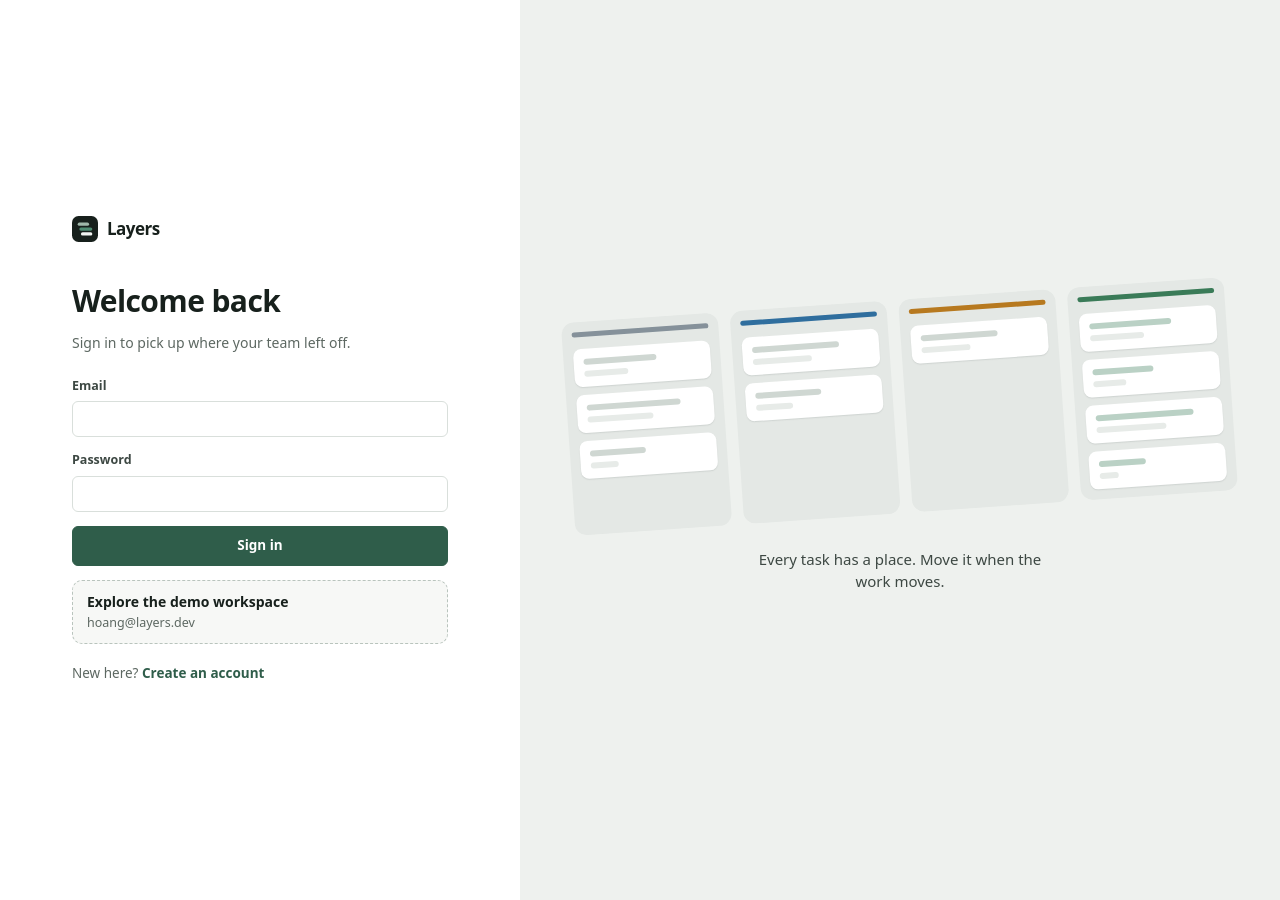
Test: AuthPage › shows the server message on bad credentials
Step 1. Type "hoang@layers.dev" into the field labelled "Email" → (260, 419), box [72,401,448,437]
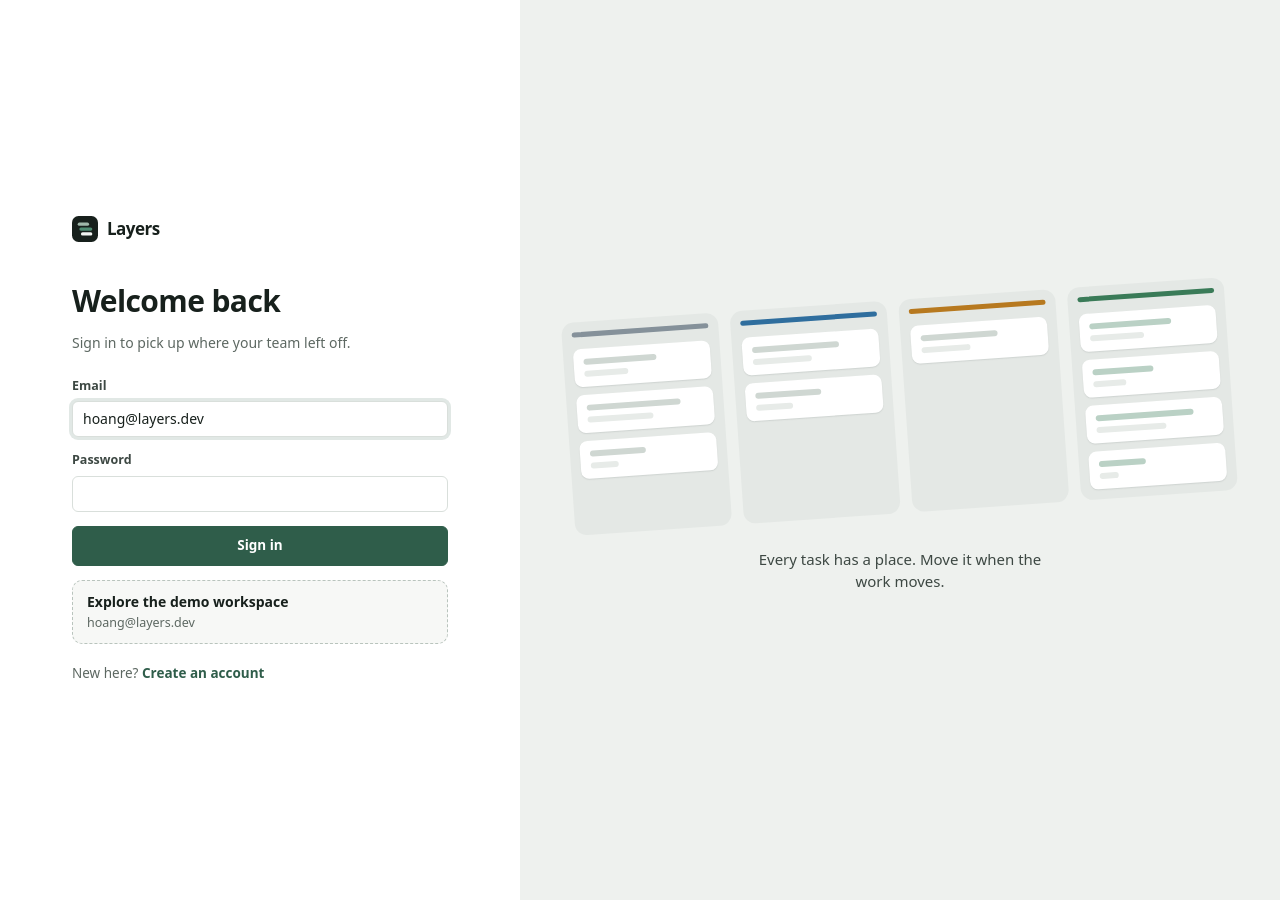
Step 2. Type "nope" into the password field labelled "Password" → (260, 494), box [72,476,448,512]
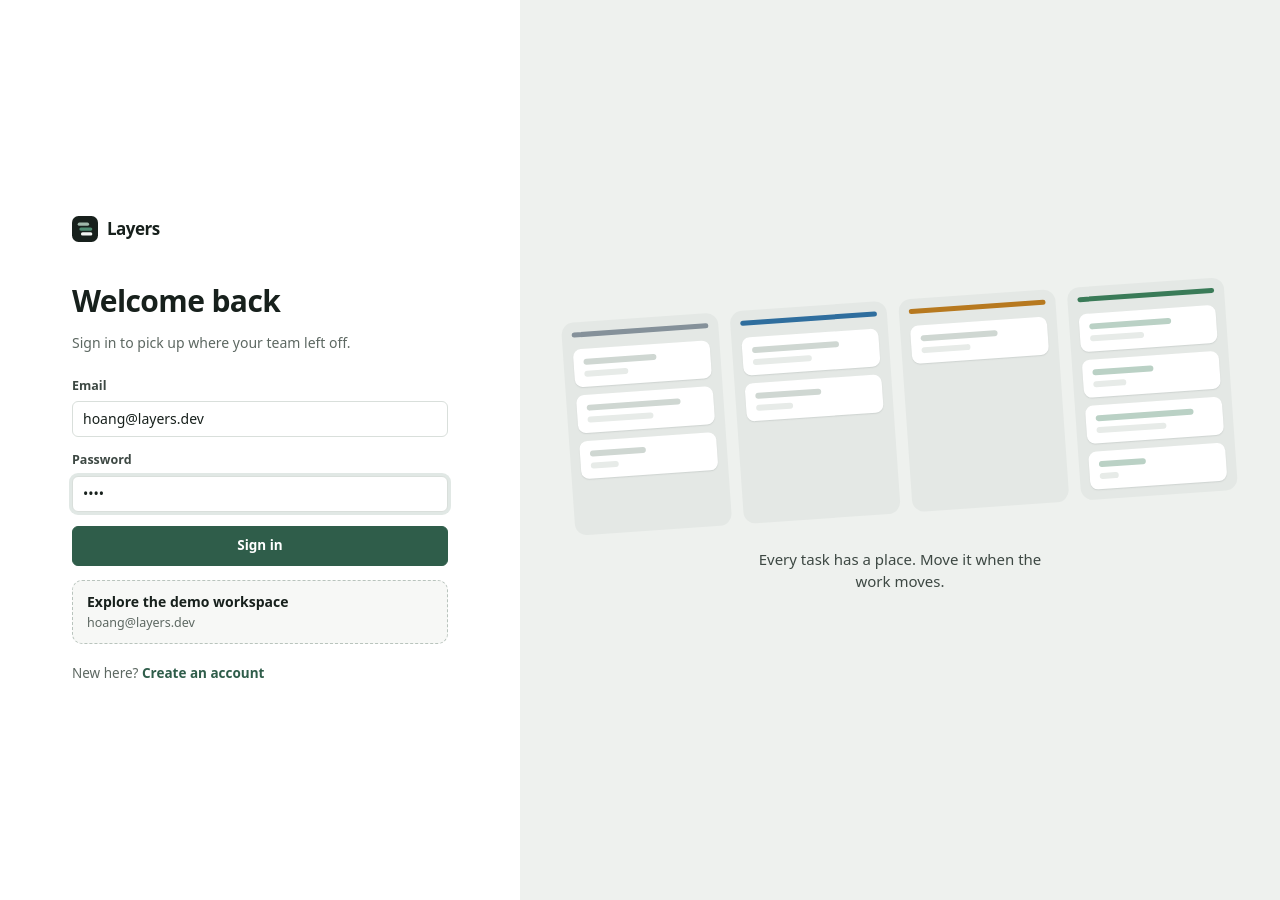
Step 3. Click the button "Sign in" → (260, 546), box [72,526,448,566]
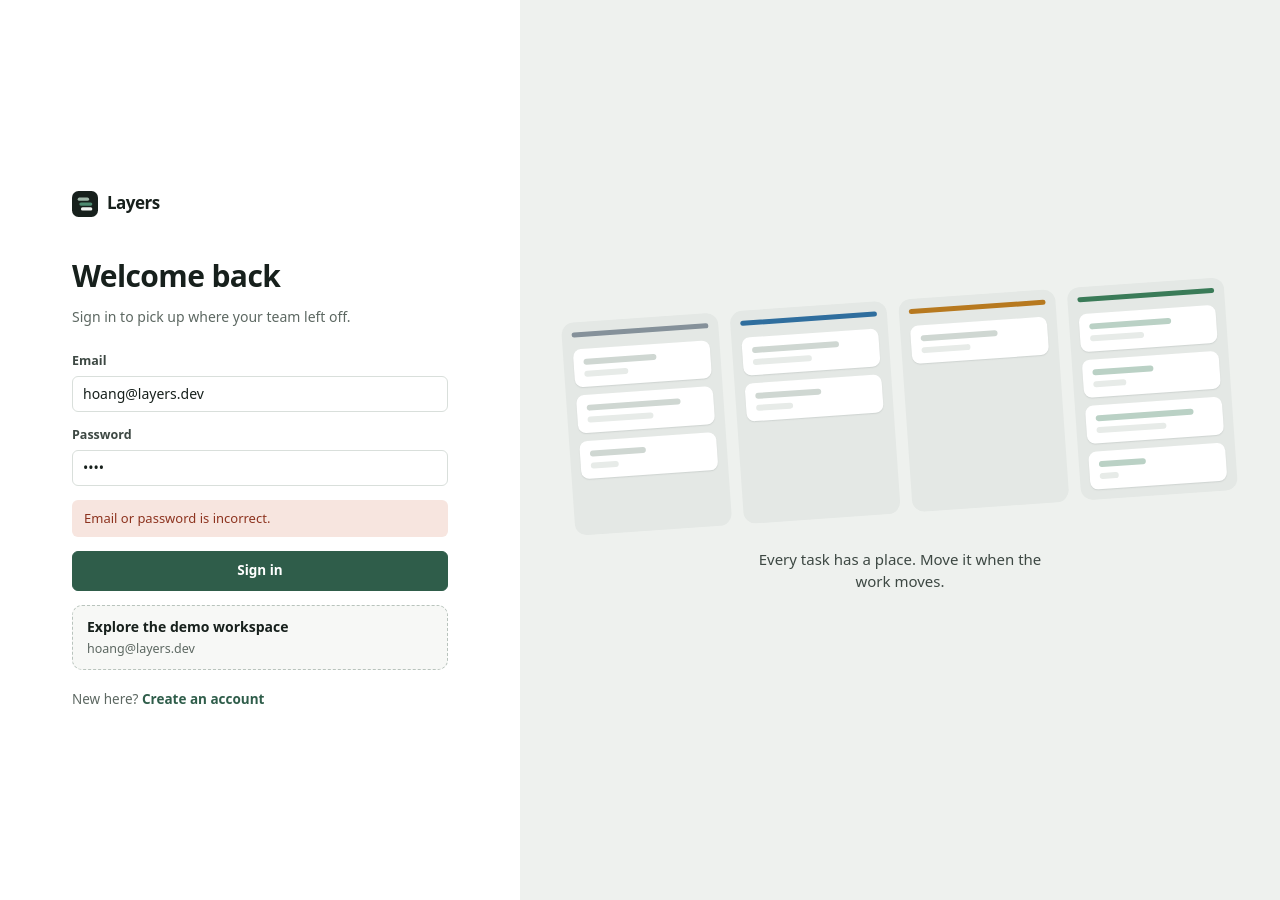
Expected: the message reads "Email or password is incorrect.", [84,509,270,527]
